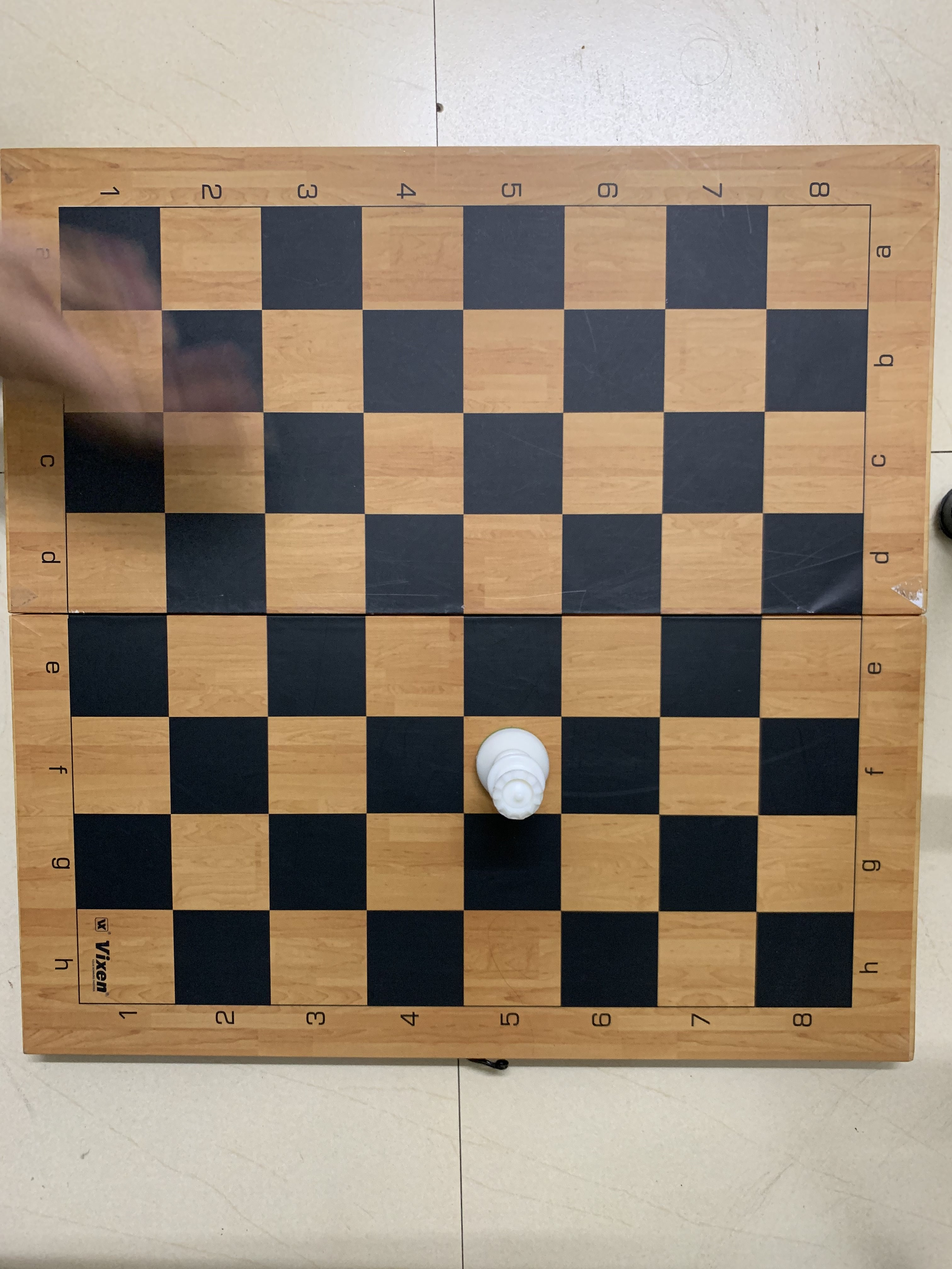white_queen: (458, 716, 564, 817)
